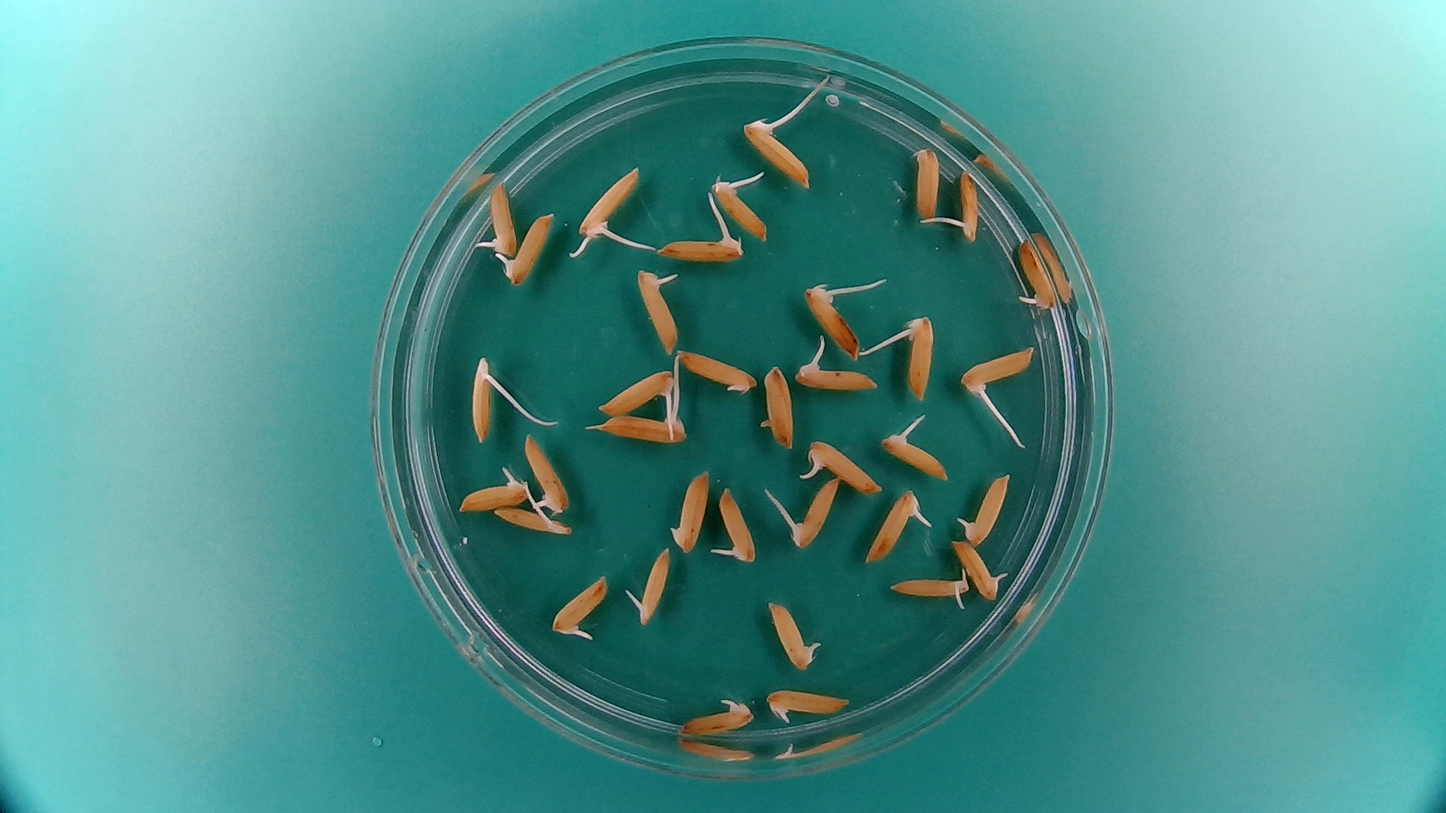no: (674, 346, 760, 396), (666, 467, 713, 554), (758, 357, 797, 453), (909, 142, 943, 222)
yes: (575, 161, 644, 242), (801, 435, 884, 497), (865, 487, 932, 563), (522, 426, 575, 516), (498, 208, 557, 288), (810, 286, 870, 363), (748, 117, 813, 188), (956, 468, 1011, 545), (549, 571, 610, 640), (595, 364, 674, 416), (789, 475, 842, 551), (765, 604, 822, 673), (961, 343, 1038, 392), (715, 178, 773, 242), (712, 483, 757, 565), (950, 539, 1010, 600), (636, 273, 679, 357), (879, 432, 950, 482), (475, 178, 518, 258), (595, 410, 687, 446), (633, 544, 673, 626), (795, 357, 882, 393), (654, 230, 743, 264), (490, 504, 574, 540), (904, 315, 938, 403), (676, 699, 751, 738), (1013, 239, 1054, 310), (466, 359, 499, 445), (450, 478, 530, 513), (763, 690, 853, 720), (890, 574, 971, 606), (956, 174, 982, 244)
